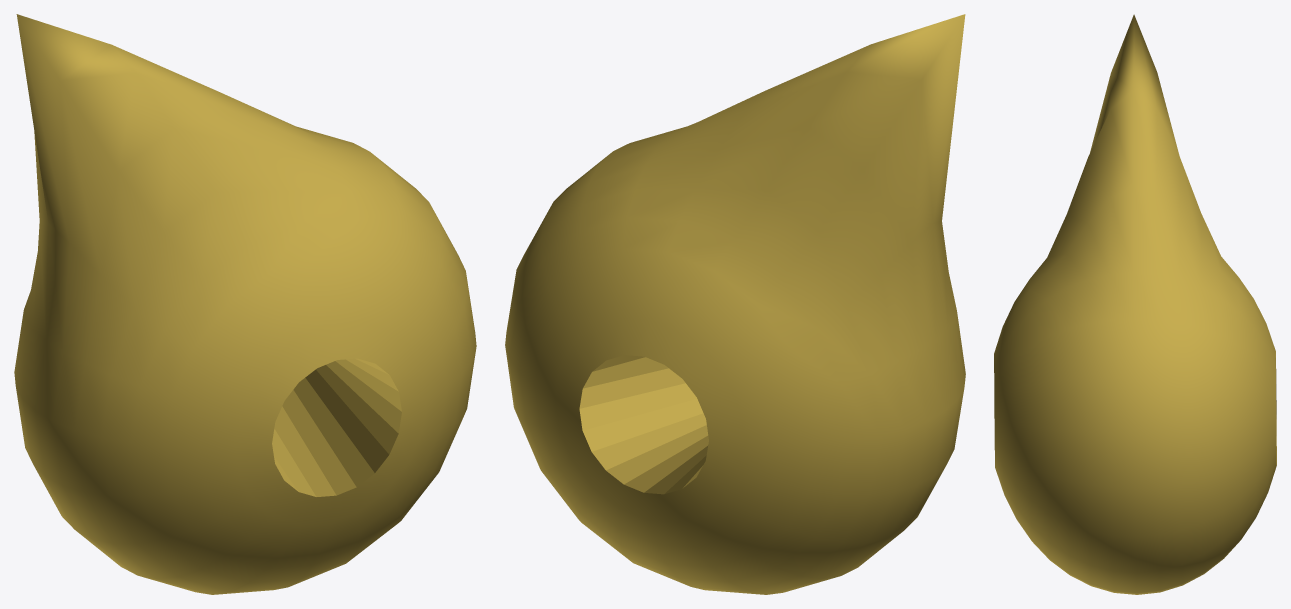
Rendered from eye.fbx.
3 views of the same model, side by side, from view 1: azimuth 30°, elevation 25°; view 2: azimuth 150°, elevation 25°; view 3: azimuth 270°, elevation 25° (orthographic). The views are drawn at different scales.
Visible parts, largest first — view 1: pSphere1; view 2: pSphere1; view 3: pSphere1.
Boxes of the visible parts, x1=… form: pSphere1: x1=14, y1=14, x2=476, y2=594; pSphere1: x1=505, y1=14, x2=965, y2=594; pSphere1: x1=994, y1=14, x2=1276, y2=594.
Bounding box in the file's own units: 2.02 × 2.73 × 1.46.
